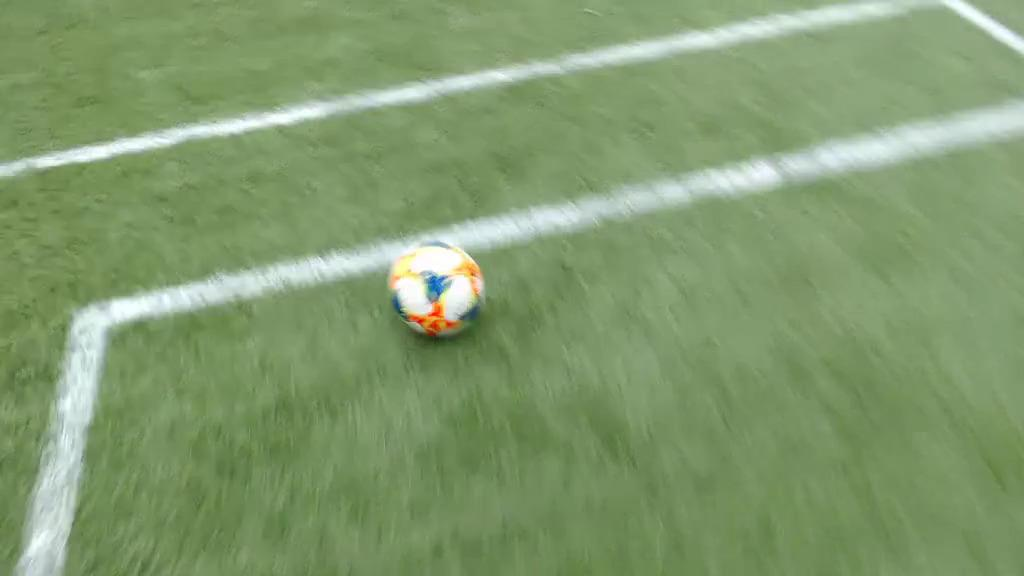ball: (391, 239, 484, 338)
